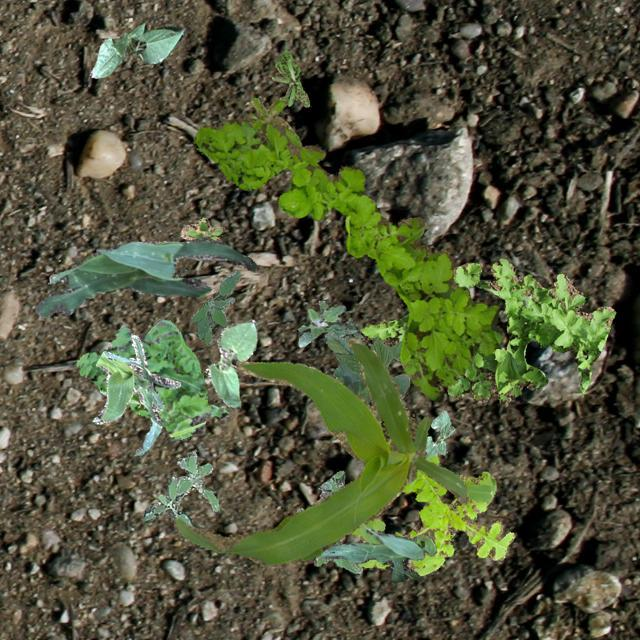crop: (172, 338, 468, 564), (34, 236, 256, 316), (92, 334, 180, 454), (316, 528, 436, 582), (324, 332, 408, 402), (89, 22, 184, 78), (204, 317, 256, 408), (424, 409, 454, 458)
weed: (193, 118, 502, 400), (358, 257, 614, 403), (351, 454, 514, 574), (76, 318, 228, 439), (296, 469, 362, 574), (142, 449, 218, 526), (190, 270, 238, 344), (296, 299, 361, 346), (242, 96, 300, 146), (270, 49, 308, 106), (180, 217, 222, 240)
